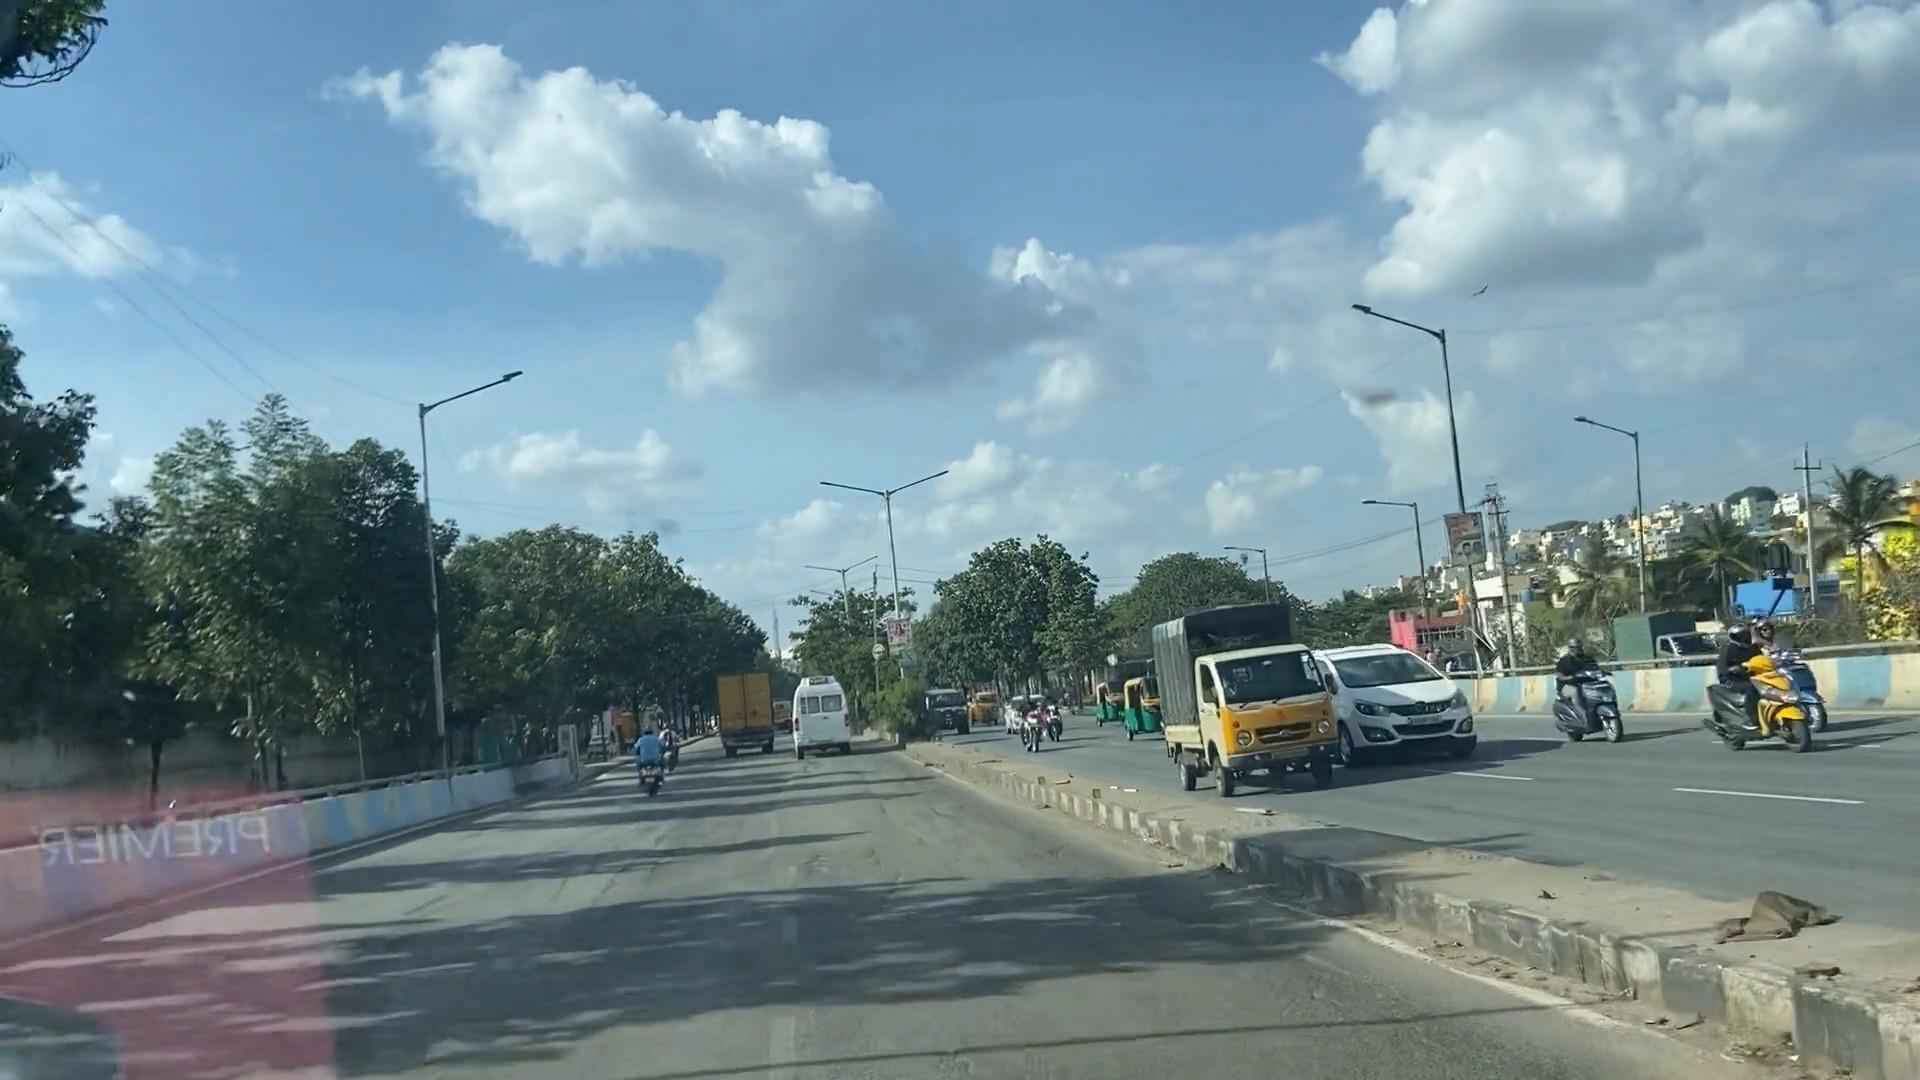HMV: (704, 670, 786, 770), (793, 667, 859, 760)
LMV: (623, 727, 677, 800)
RoadDamages: (1201, 960, 1507, 1080), (683, 831, 907, 926), (864, 1003, 1053, 1080), (904, 807, 1011, 940)
